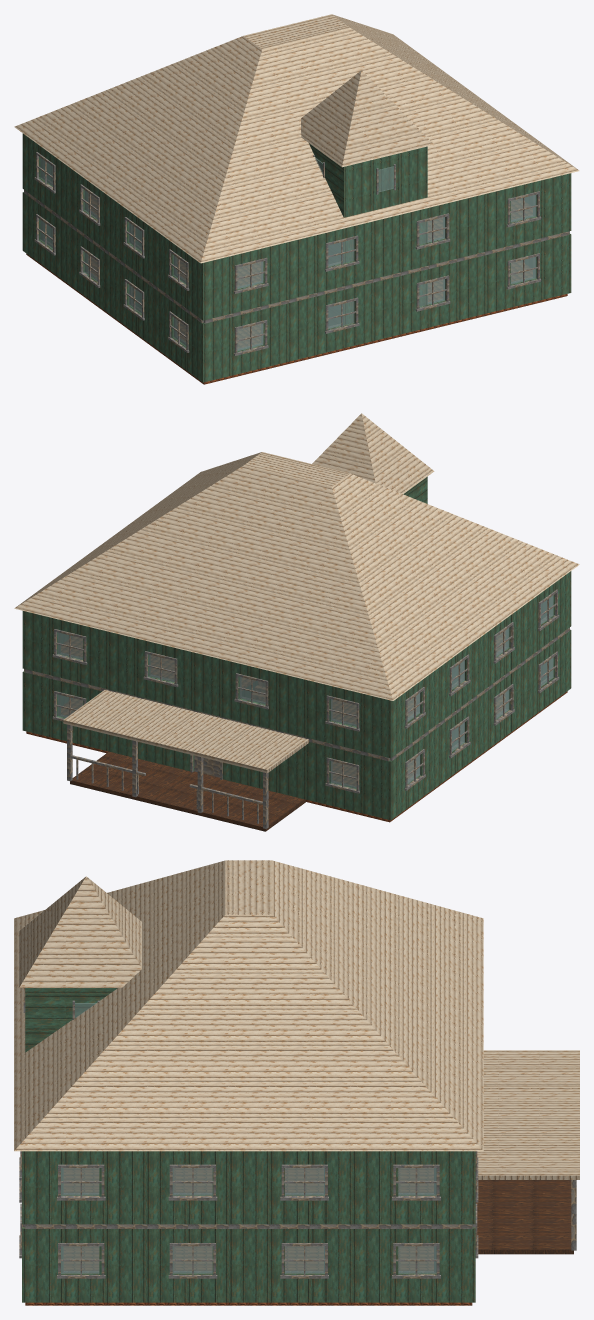
File: exchange-hall.gltf
3 views of the same model, one above another, from view 1: azimuth 30°, elevation 25°; view 2: azimuth 150°, elevation 25°; view 3: azimuth 270°, elevation 25° (orthographic). The views are drawn at different scales.
Visible parts, largest first — view 1: roof-L1-copper, exterior-L0-plaster, exterior-L1-plaster, tower-L0-copper, tower-L0-plaster, trim-L1-dark-wood, trim-L0-dark-wood, glazing-L1-glass, glazing-L0-glass, floor-L0-floor, exterior-L0-dark-wood, floor-L1-floor; view 2: roof-L1-copper, exterior-L1-plaster, exterior-L0-plaster, porch-L0-copper, porch-L0-stone, tower-L0-copper, trim-L1-dark-wood, glazing-L1-glass, trim-L0-dark-wood, porch-L0-dark-wood, glazing-L0-glass, exterior-L0-dark-wood (+2 smaller); view 3: roof-L1-copper, exterior-L0-plaster, exterior-L1-plaster, porch-L0-copper, tower-L0-copper, porch-L0-stone, floor-L0-floor, glazing-L0-glass, glazing-L1-glass, trim-L0-dark-wood, trim-L1-dark-wood, floor-L1-floor (+2 smaller).
Boxes of the visible parts, x1,y1,x2,y2 form: roof-L1-copper: (14,14,579,263); exterior-L0-plaster: (22,192,571,382); exterior-L1-plaster: (22,133,571,320); tower-L0-copper: (301,70,434,167); tower-L0-plaster: (309,143,427,325); trim-L1-dark-wood: (34,152,541,293); trim-L0-dark-wood: (34,214,541,355); glazing-L1-glass: (40,158,536,288); glazing-L0-glass: (40,220,536,351); floor-L0-floor: (26,253,567,384); exterior-L0-dark-wood: (24,190,569,323); floor-L1-floor: (91,195,532,285); roof-L1-copper: (14,452,579,700); exterior-L1-plaster: (22,571,571,758); exterior-L0-plaster: (22,629,571,820); porch-L0-copper: (63,690,308,773); porch-L0-stone: (70,751,305,831); tower-L0-copper: (312,413,434,493); trim-L1-dark-wood: (52,589,559,731); glazing-L1-glass: (57,595,553,726); trim-L0-dark-wood: (52,651,559,793); porch-L0-dark-wood: (67,724,268,828); glazing-L0-glass: (57,657,553,788); exterior-L0-dark-wood: (24,627,569,761); roof-L1-copper: (14,860,483,1151); exterior-L0-plaster: (22,1227,475,1302); exterior-L1-plaster: (22,1151,475,1224); porch-L0-copper: (477,1050,579,1179); tower-L0-copper: (19,876,141,987); porch-L0-stone: (475,1180,573,1254); floor-L0-floor: (25,1247,472,1305); glazing-L0-glass: (61,1246,436,1273); glazing-L1-glass: (61,1168,436,1195); trim-L0-dark-wood: (19,1180,478,1278); trim-L1-dark-wood: (19,1151,478,1200); floor-L1-floor: (64,1168,433,1192).
Bounding box in the file's own units: 13.56 × 8.64 × 13.93.
Materials: 9 (8 with a texture image).
